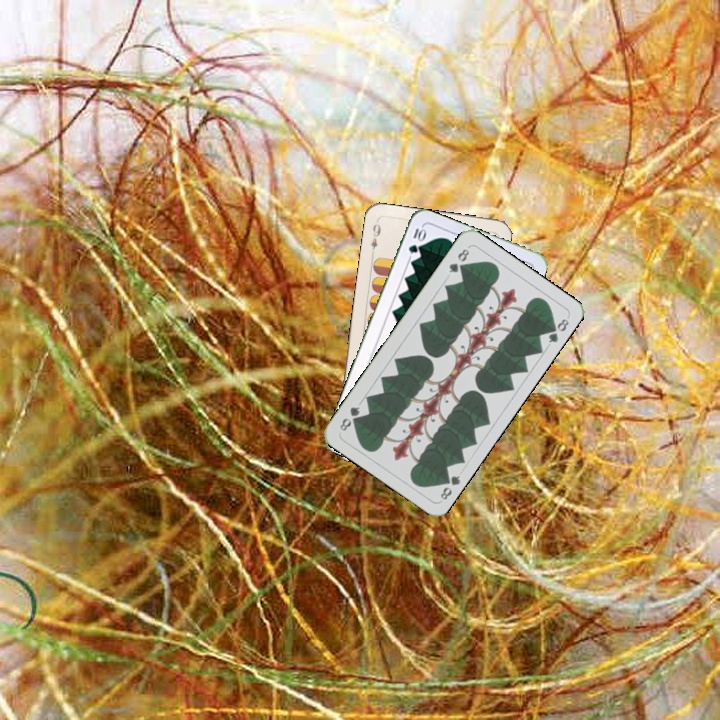E9: (367, 217, 383, 258)
G10: (404, 223, 428, 256)
G8: (436, 470, 463, 503), (445, 244, 472, 275)
